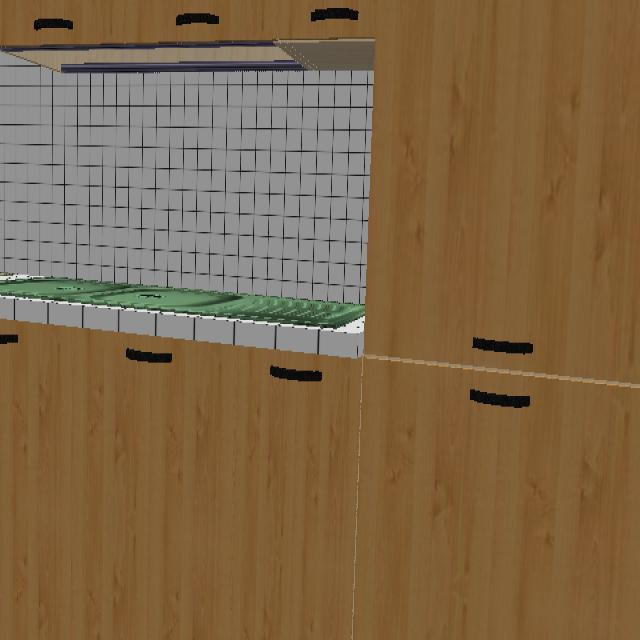countertop: (0, 272, 365, 359)
sink: (0, 279, 362, 329)
